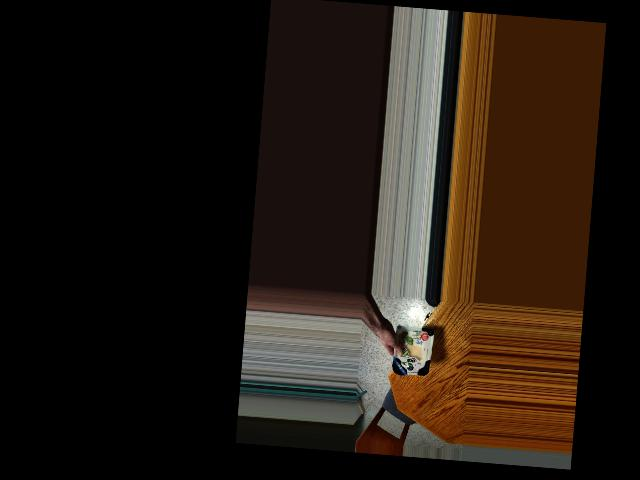cheese: (389, 314, 434, 388)
